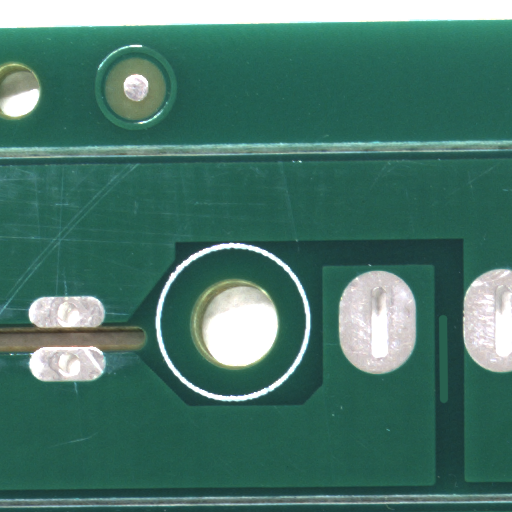Spurious_copper: (443, 359, 458, 449)
